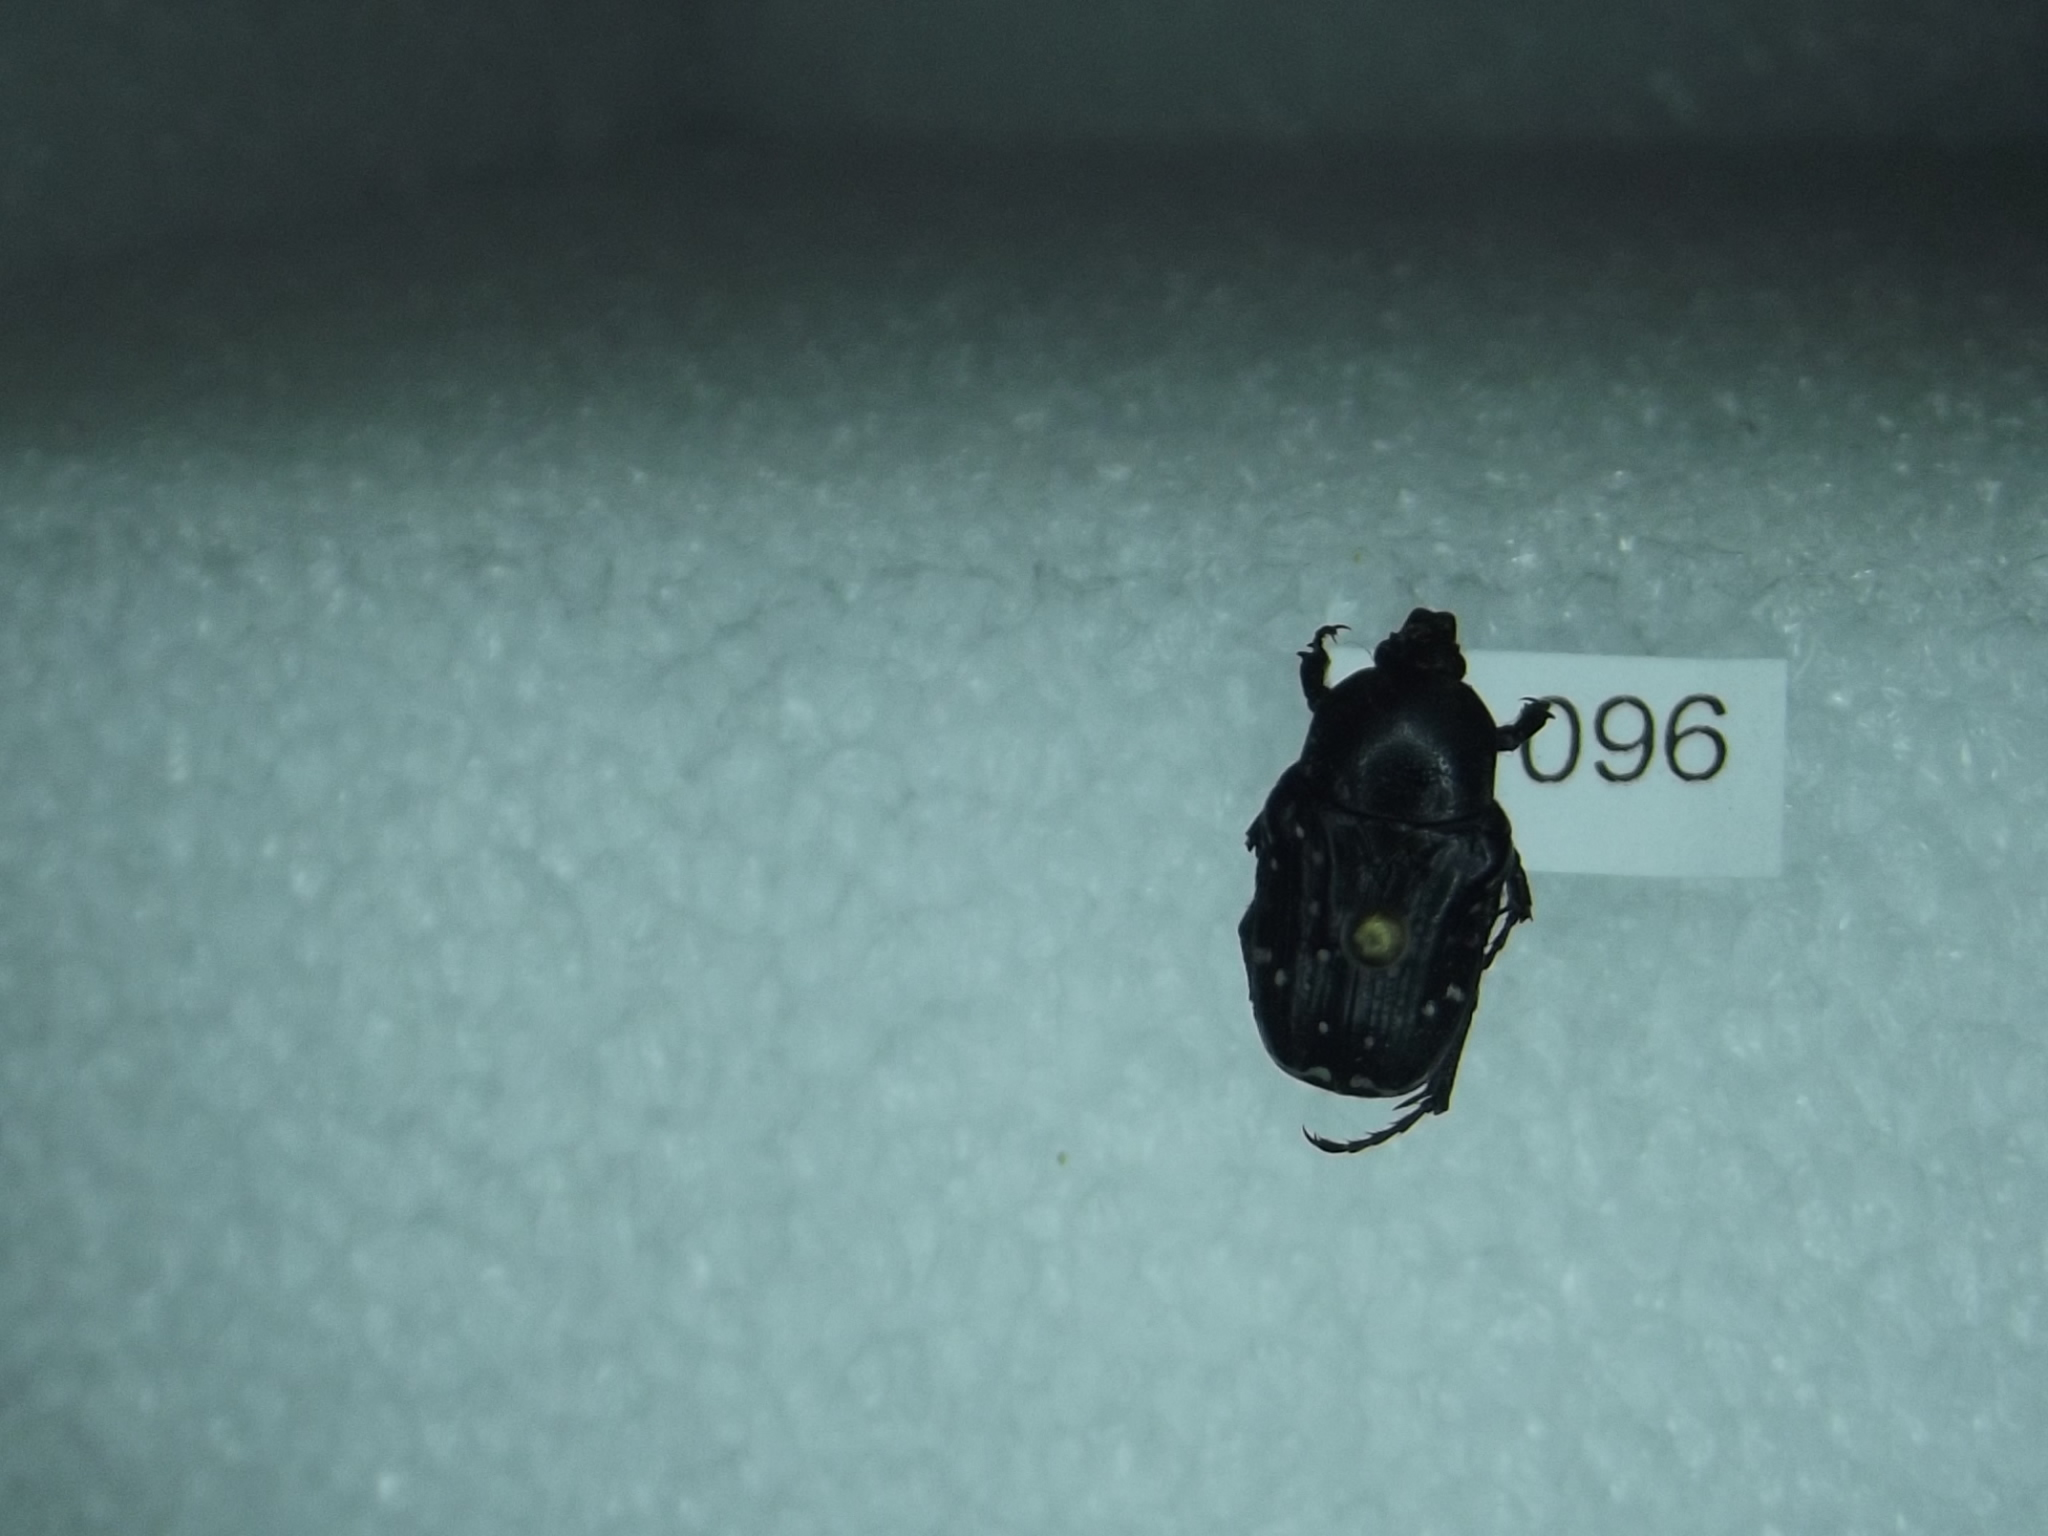Oxythyrea_cinctella: (1235, 595, 1567, 1170)
